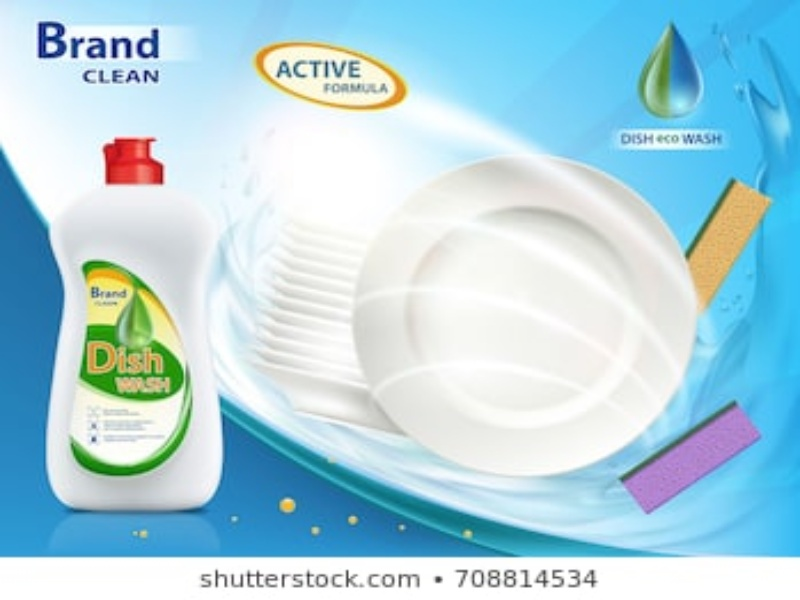detergent-bottle: (47, 135, 237, 516)
